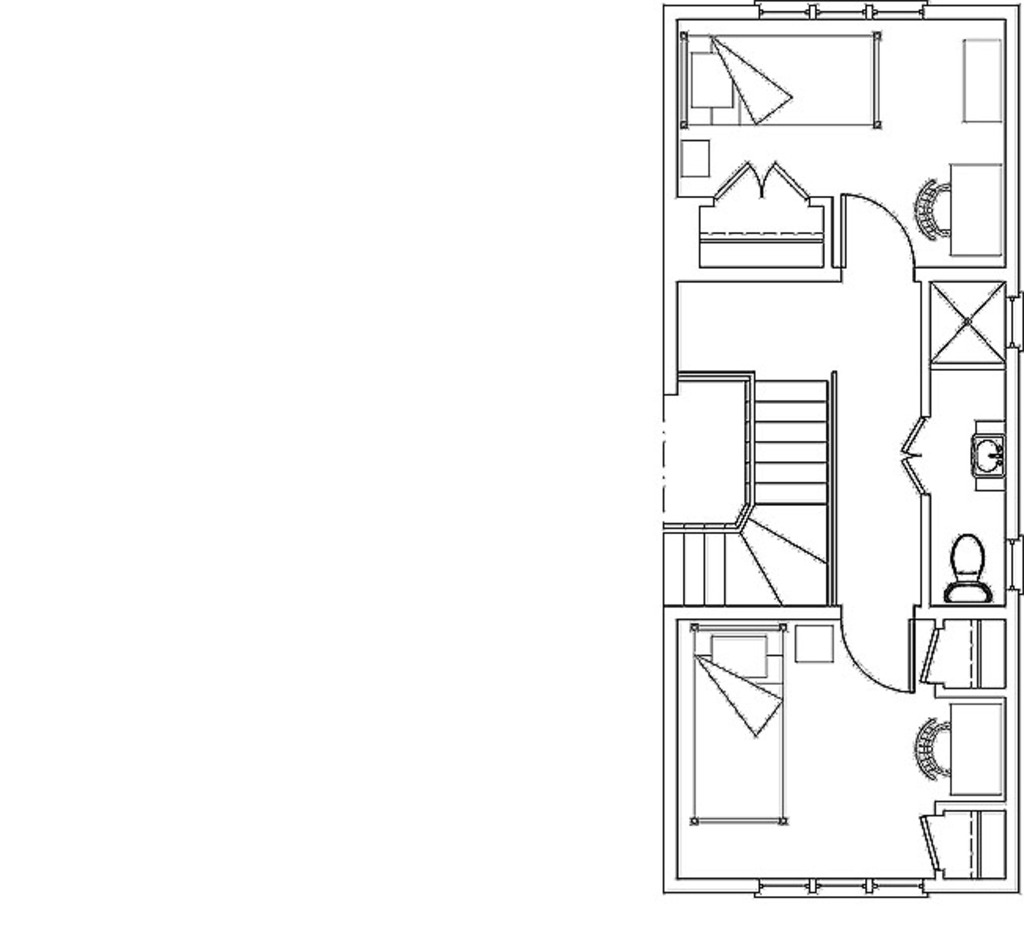bed: (681, 28, 895, 139), (689, 624, 799, 828)
door: (838, 184, 922, 272), (838, 618, 926, 697), (883, 414, 935, 501), (716, 164, 818, 205)
large_sink: (945, 529, 993, 607)
sink: (969, 418, 1011, 497)
stairs: (666, 362, 845, 612)
window: (759, 879, 929, 908), (761, 1, 933, 19), (1007, 286, 1022, 363)
